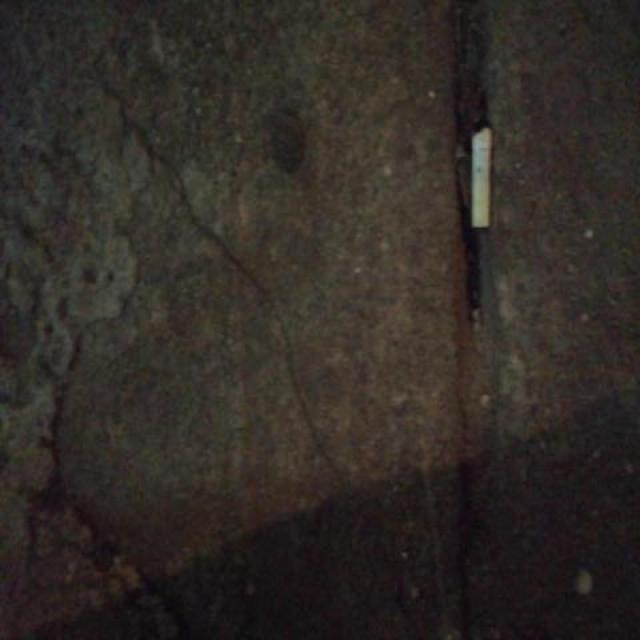non-organic waste: (467, 121, 497, 236)
